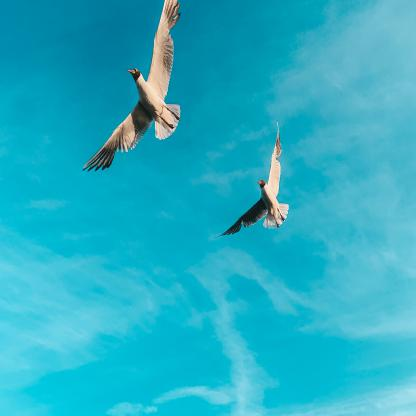bird: (83, 0, 181, 173), (216, 119, 288, 239)
